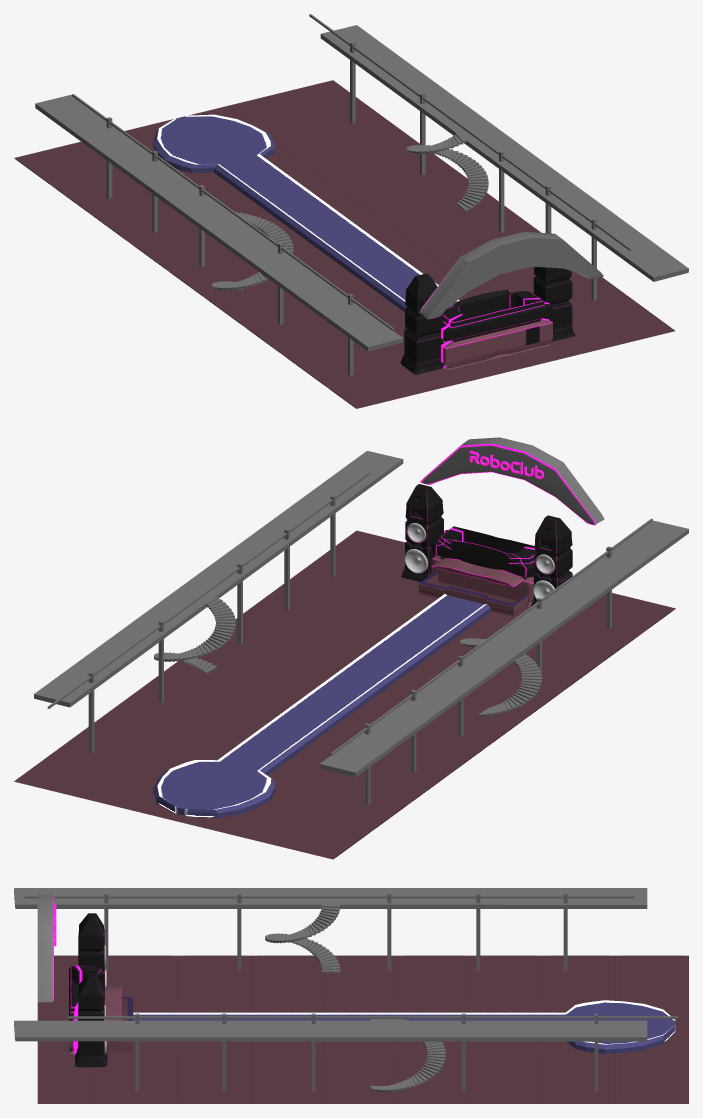
File: klubiec.fbx
3 views of the same model, one above another, from view 1: azimuth 30°, elevation 25°; view 2: azimuth 150°, elevation 25°; view 3: azimuth 270°, elevation 25° (orthographic). The views are drawn at different scales.
Visible parts, largest first — view 1: floor_Baked, dancingCubeRe_Baked, RampL.001_Baked.001, RampL.001_Baked.002, gamePadWall_Baked, dj_up_Baked, dj_down_Baked, RightSpeaker.001_Baked.001, RightSpeaker.001_Baked, stairs_Baked.002, filar.001_Baked, filar.001_Baked.001 (+1 smaller); view 2: floor_Baked, dancingCubeRe_Baked, RampL.001_Baked.001, RampL.001_Baked.002, gamePadWall_Baked, dj_up_Baked, dj_down_Baked, RightSpeaker.001_Baked, RightSpeaker.001_Baked.001, stairs_Baked.002, stairs_Baked, barWall_Baked (+2 smaller); view 3: floor_Baked, RampL.001_Baked.002, RampL.001_Baked.001, dancingCubeRe_Baked, RightSpeaker.001_Baked, gamePadWall_Baked, filar.001_Baked.001, filar.001_Baked, stairs_Baked, RightSpeaker.001_Baked.001, stairs_Baked.002, dj_up_Baked (+6 smaller).
Boxes of the visible parts, <box> form: floor_Baked: <box>14,80,674,408</box>; dancingCubeRe_Baked: <box>153,114,459,312</box>; RampL.001_Baked.001: <box>35,94,403,351</box>; RampL.001_Baked.002: <box>320,25,688,281</box>; gamePadWall_Baked: <box>419,231,603,319</box>; dj_up_Baked: <box>439,289,552,341</box>; dj_down_Baked: <box>441,316,552,370</box>; RightSpeaker.001_Baked.001: <box>400,273,444,374</box>; RightSpeaker.001_Baked: <box>533,266,576,341</box>; stairs_Baked.002: <box>406,133,488,211</box>; filar.001_Baked: <box>72,94,394,330</box>; filar.001_Baked.001: <box>309,14,631,250</box>; floor_Baked: <box>14,530,675,859</box>; dancingCubeRe_Baked: <box>153,594,491,817</box>; RampL.001_Baked.001: <box>319,520,688,777</box>; RampL.001_Baked.002: <box>34,451,403,707</box>; gamePadWall_Baked: <box>420,437,604,525</box>; dj_up_Baked: <box>431,526,535,577</box>; dj_down_Baked: <box>431,555,533,606</box>; RightSpeaker.001_Baked: <box>401,484,443,581</box>; RightSpeaker.001_Baked.001: <box>530,515,572,606</box>; stairs_Baked.002: <box>154,596,235,674</box>; stairs_Baked: <box>460,638,541,716</box>; barWall_Baked: <box>418,573,528,617</box>; floor_Baked: <box>37,955,688,1103</box>; RampL.001_Baked.002: <box>14,1020,647,1041</box>; RampL.001_Baked.001: <box>14,888,647,908</box>; dancingCubeRe_Baked: <box>133,1000,675,1053</box>; RightSpeaker.001_Baked: <box>75,973,107,1067</box>; gamePadWall_Baked: <box>37,894,53,1002</box>; filar.001_Baked.001: <box>68,1016,677,1018</box>; filar.001_Baked: <box>24,896,634,898</box>; stairs_Baked: <box>265,904,340,973</box>; RightSpeaker.001_Baked.001: <box>78,913,104,971</box>; stairs_Baked.002: <box>370,1019,445,1092</box>; dj_up_Baked: <box>69,965,104,1020</box>.
Size of the model in its own units: 8408 by 3252 by 16020.
